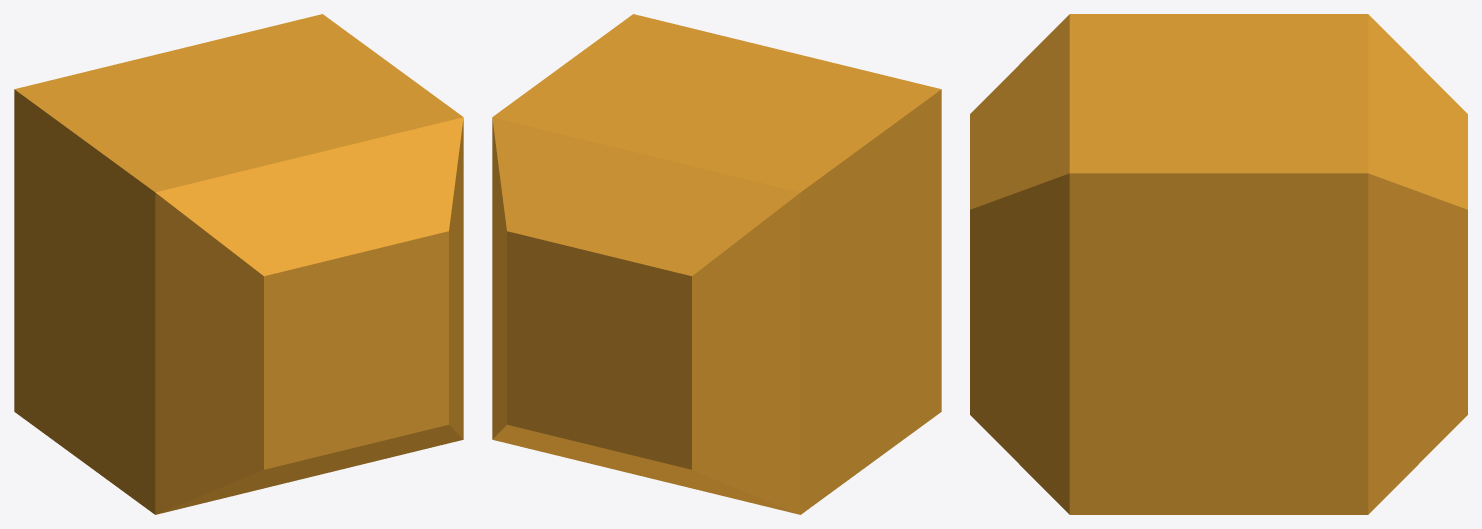
Rendered from firsttail.fbx.
The picture shows the model from 3 angles, left to right: view 1: azimuth 30°, elevation 25°; view 2: azimuth 150°, elevation 25°; view 3: azimuth 270°, elevation 25°; orthographic projection. The views are drawn at different scales.
Visible parts, largest first — view 1: Cube.001; view 2: Cube.001; view 3: Cube.001.
Part boxes in pixels (box(x1,y1,x2,y2)): Cube.001: box(14, 14, 463, 514); Cube.001: box(492, 14, 941, 514); Cube.001: box(970, 14, 1467, 514).
Bounding box in the file's own units: 100 × 99.96 × 132.
